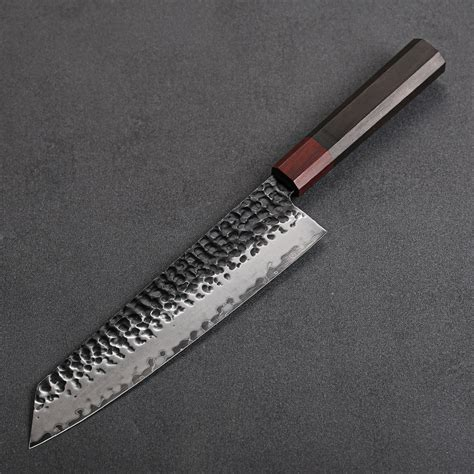knife: (24, 33, 448, 453)
